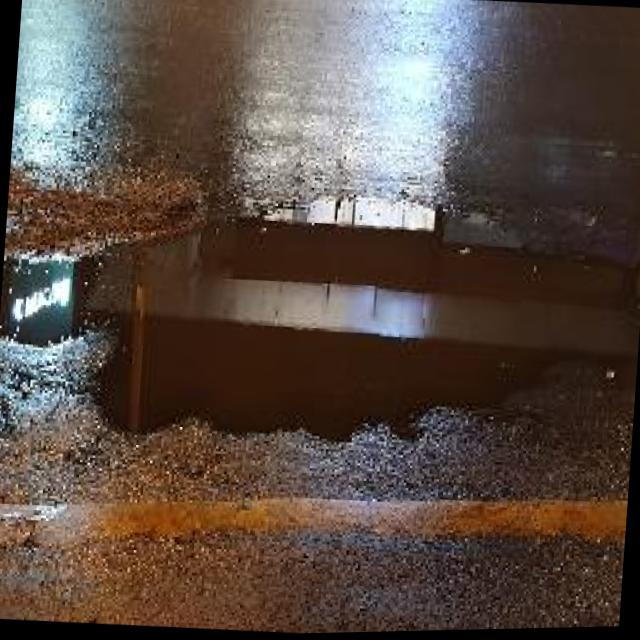puddle: (1, 171, 640, 471)
